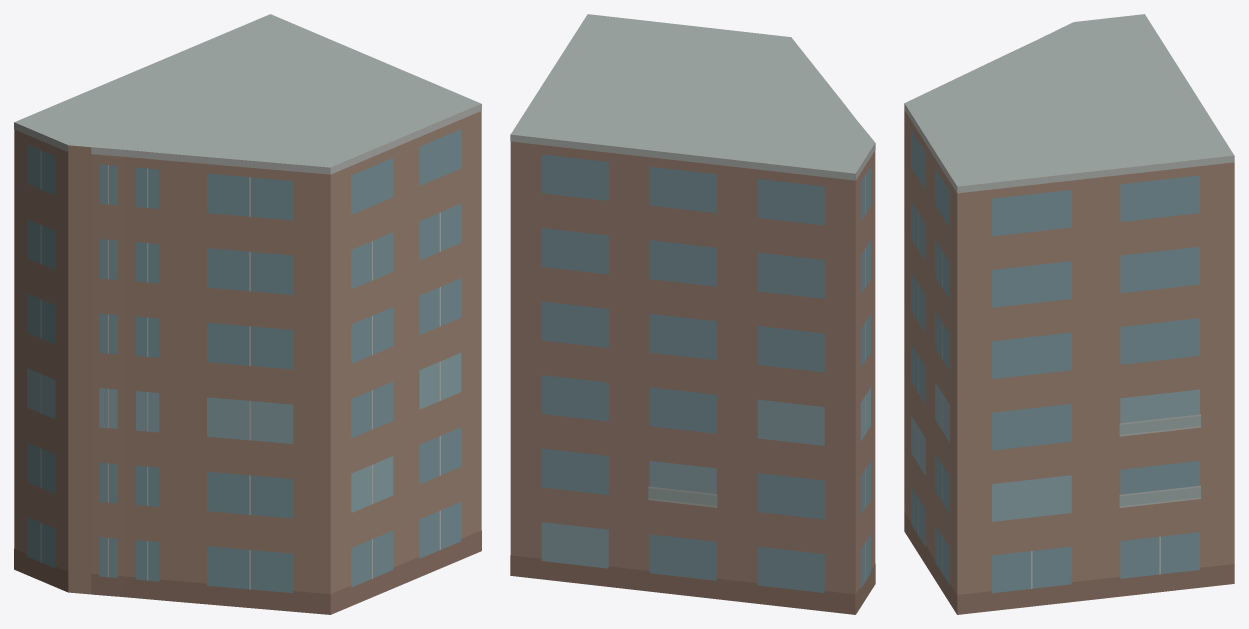
File: survey-upis-32693615.glb
3 renders of one model, left to right at view 1: azimuth 30°, elevation 25°; view 2: azimuth 150°, elevation 25°; view 3: azimuth 270°, elevation 25°, orthographic. The views are drawn at different scales.
Visible parts, largest first — view 1: survey-upis-32693615.tmp; view 2: survey-upis-32693615.tmp; view 3: survey-upis-32693615.tmp.
Boxes of the visible parts, x1=… form: survey-upis-32693615.tmp: x1=14, y1=14, x2=481, y2=614; survey-upis-32693615.tmp: x1=510, y1=14, x2=875, y2=614; survey-upis-32693615.tmp: x1=904, y1=14, x2=1234, y2=614.
Size of the model in its own units: 13.5 by 15.6 by 10.91.
